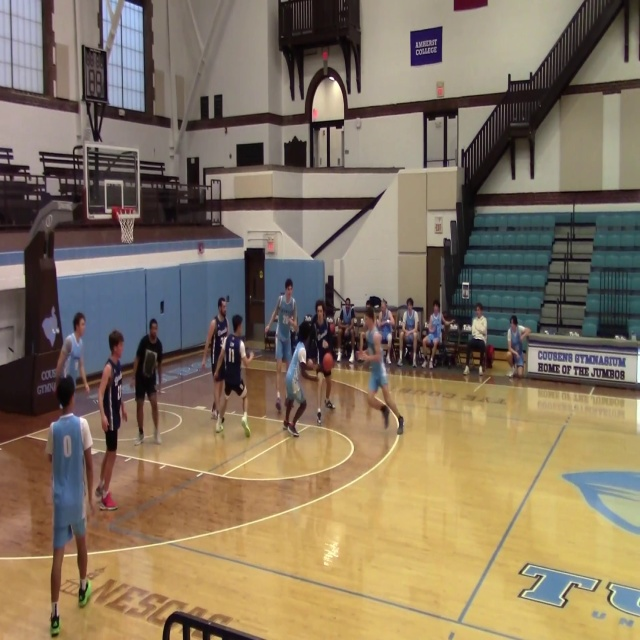Basketball: (322, 353, 333, 374), (305, 358, 315, 370)
